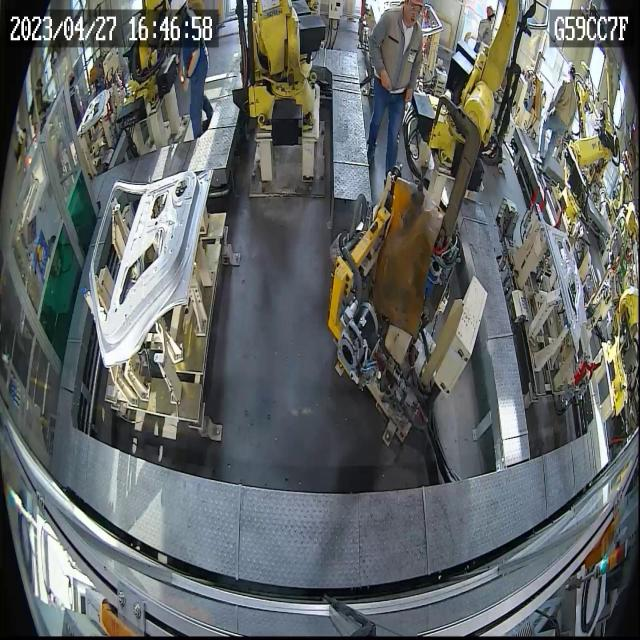Person: (366, 0, 423, 184), (179, 0, 213, 139), (532, 64, 578, 166), (474, 5, 496, 54), (68, 70, 83, 130)
